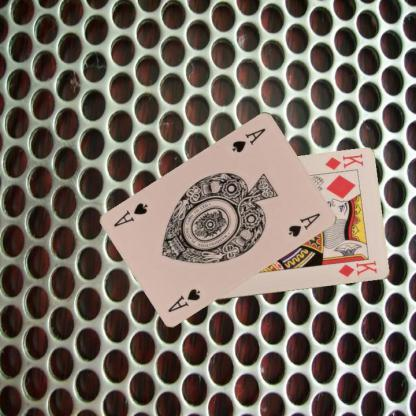As: (229, 124, 267, 154), (164, 286, 202, 313)
Kd: (322, 150, 364, 172)
